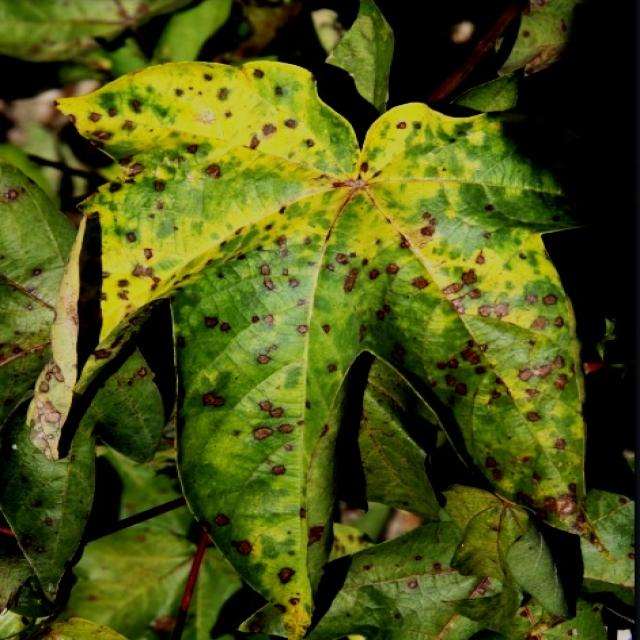Bacterial Blight: (110, 100, 541, 420)
